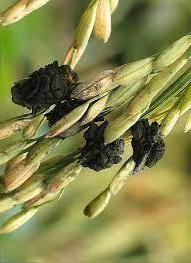False Smut: (7, 61, 81, 115), (124, 118, 177, 179), (76, 116, 124, 176)
